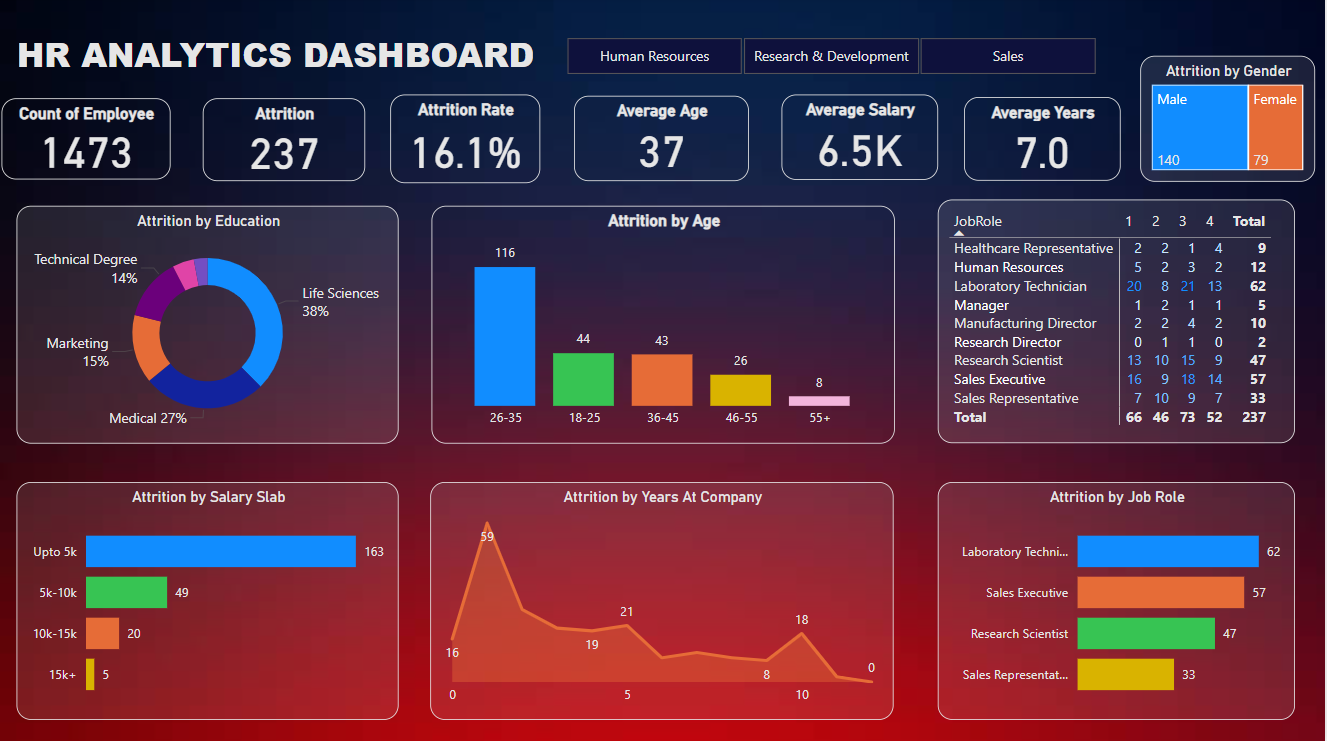

What the dashboard file says about the page in this screenshot:
{"tool":"powerbi","page":{"name":"Page 1","canvas":[1280,720],"ordinal":0},"visuals":[{"type":"card","title":"Count of Employee","fields":{"Values":["CountNonNull(HR_Analytics.EmpID)"]},"box":[2.4,97.7,162.9,78.4],"z":0},{"type":"card","title":"Attrition","fields":{"Values":["Sum(HR_Analytics.AttritionCount)"]},"box":[196.6,97.7,156.8,79.6],"z":1000},{"type":"card","title":"Attrition Rate","fields":{"Values":["HR_Analytics.AttritionRate"]},"box":[377.6,94.1,144.8,85.7],"z":2000},{"type":"card","title":"Average Age","fields":{"Values":["Avg(HR_Analytics.Age)"]},"box":[555,95.3,168.9,82],"z":3000},{"type":"card","title":"Average Salary","fields":{"Values":["Avg(HR_Analytics.MonthlyIncome)"]},"box":[755.2,94.1,150.8,82],"z":4000},{"type":"card","title":"Average Years","fields":{"Values":["Avg(HR_Analytics.YearsAtCompany)"]},"box":[931.4,96.5,150.8,80.8],"z":5000},{"type":"donutChart","title":"Attrition by Education","fields":{"Category":["HR_Analytics.EducationField"],"Y":["Sum(HR_Analytics.AttritionCount)"]},"box":[16.9,201.5,369.2,229.2],"z":6000},{"type":"columnChart","title":"Attrition by Age","fields":{"Category":["HR_Analytics.AgeGroup"],"Y":["Sum(HR_Analytics.AttritionCount)"]},"box":[417.4,201.5,447.6,229.2],"z":7000},{"type":"pivotTable","fields":{"Rows":["HR_Analytics.JobRole"],"Columns":["HR_Analytics.JobSatisfaction"],"Values":["Sum(HR_Analytics.AttritionCount)"]},"box":[906,195.4,345,235.3],"z":8000},{"type":"barChart","title":"Attrition by Salary Slab","fields":{"Category":["HR_Analytics.SalarySlab"],"Y":["Sum(HR_Analytics.AttritionCount)"]},"box":[16.9,468.1,369.2,229.2],"z":9000},{"type":"barChart","title":"Attrition by Job Role","fields":{"Category":["HR_Analytics.JobRole"],"Y":["Sum(HR_Analytics.AttritionCount)"]},"box":[906,468.1,345,229.2],"z":10000},{"type":"areaChart","title":"Attrition by Years At Company","fields":{"Category":["HR_Analytics.YearsAtCompany"],"Y":["Sum(HR_Analytics.AttritionCount)"]},"box":[416.2,468.1,447.6,229.2],"z":11000},{"type":"treemap","title":"Attrition by Gender","fields":{"Group":["HR_Analytics.Gender"],"Values":["Sum(HR_Analytics.AttritionCount)"]},"box":[1101.5,56.7,168.9,121.9],"z":12000},{"type":"slicer","fields":{"Values":["HR_Analytics.Department"]},"box":[522.4,32.6,559.8,48.3],"z":13000},{"type":"textbox","box":[12.1,27.7,526,57.9],"z":14000}]}

Visuals, with their boxes in screenshot pixels (x1, y1, x2, y2), scaled from the page's 1280x720 canvas onto the 1327x741 screenshot:
"Count of Employee" card: x1=2, y1=101, x2=171, y2=181
"Attrition" card: x1=204, y1=101, x2=366, y2=182
"Attrition Rate" card: x1=391, y1=97, x2=542, y2=185
"Average Age" card: x1=575, y1=98, x2=750, y2=182
"Average Salary" card: x1=783, y1=97, x2=939, y2=181
"Average Years" card: x1=966, y1=99, x2=1122, y2=182
"Attrition by Education" donutChart: x1=18, y1=207, x2=400, y2=443
"Attrition by Age" columnChart: x1=433, y1=207, x2=897, y2=443
pivotTable - HR_Analytics.JobRole x HR_Analytics.JobSatisfaction: x1=939, y1=201, x2=1297, y2=443
"Attrition by Salary Slab" barChart: x1=18, y1=482, x2=400, y2=718
"Attrition by Job Role" barChart: x1=939, y1=482, x2=1297, y2=718
"Attrition by Years At Company" areaChart: x1=431, y1=482, x2=896, y2=718
"Attrition by Gender" treemap: x1=1142, y1=58, x2=1317, y2=184
slicer - HR_Analytics.Department: x1=542, y1=34, x2=1122, y2=83
textbox: x1=13, y1=29, x2=558, y2=88
